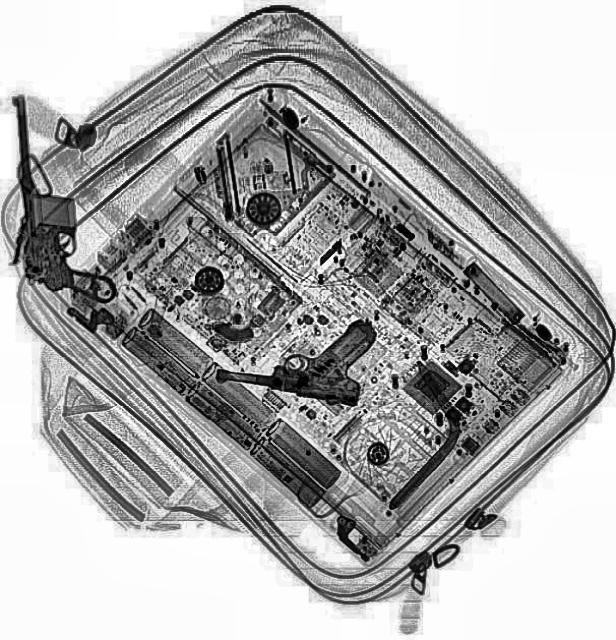Gun: (4, 88, 116, 306), (213, 296, 379, 408)
